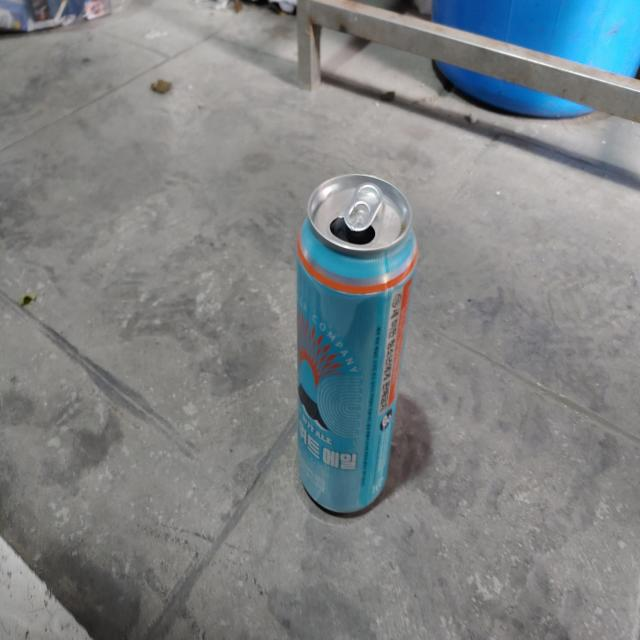can: (297, 174, 419, 513)
